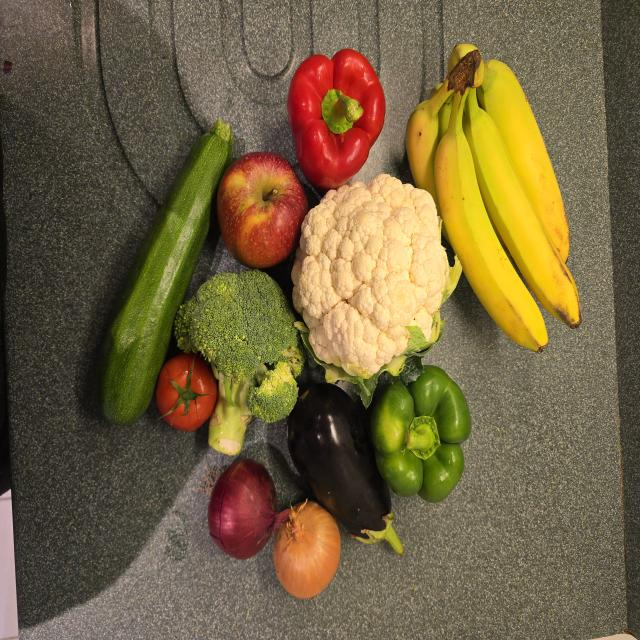Apple: (217, 152, 308, 268)
Banana: (406, 44, 581, 351)
Bell Pepper: (287, 48, 385, 193), (371, 366, 471, 503)
Broccoli: (174, 270, 305, 454)
Cauliflower: (292, 176, 455, 378)
Courgette: (99, 119, 234, 425)
Eggplant: (288, 383, 404, 553)
Onion: (208, 459, 289, 559), (273, 500, 340, 598)
Tomato: (156, 352, 218, 431)
